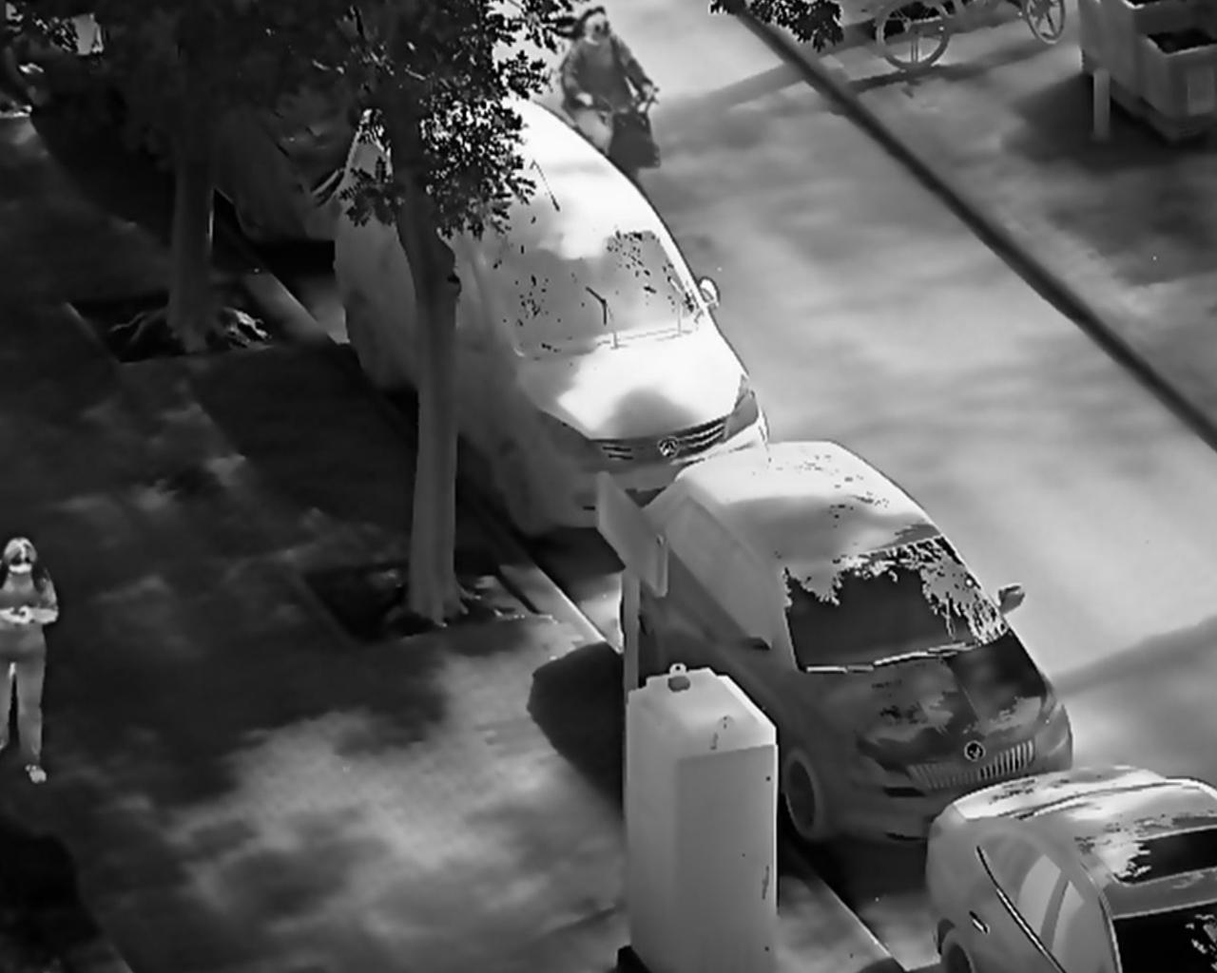person: (557, 6, 666, 162)
